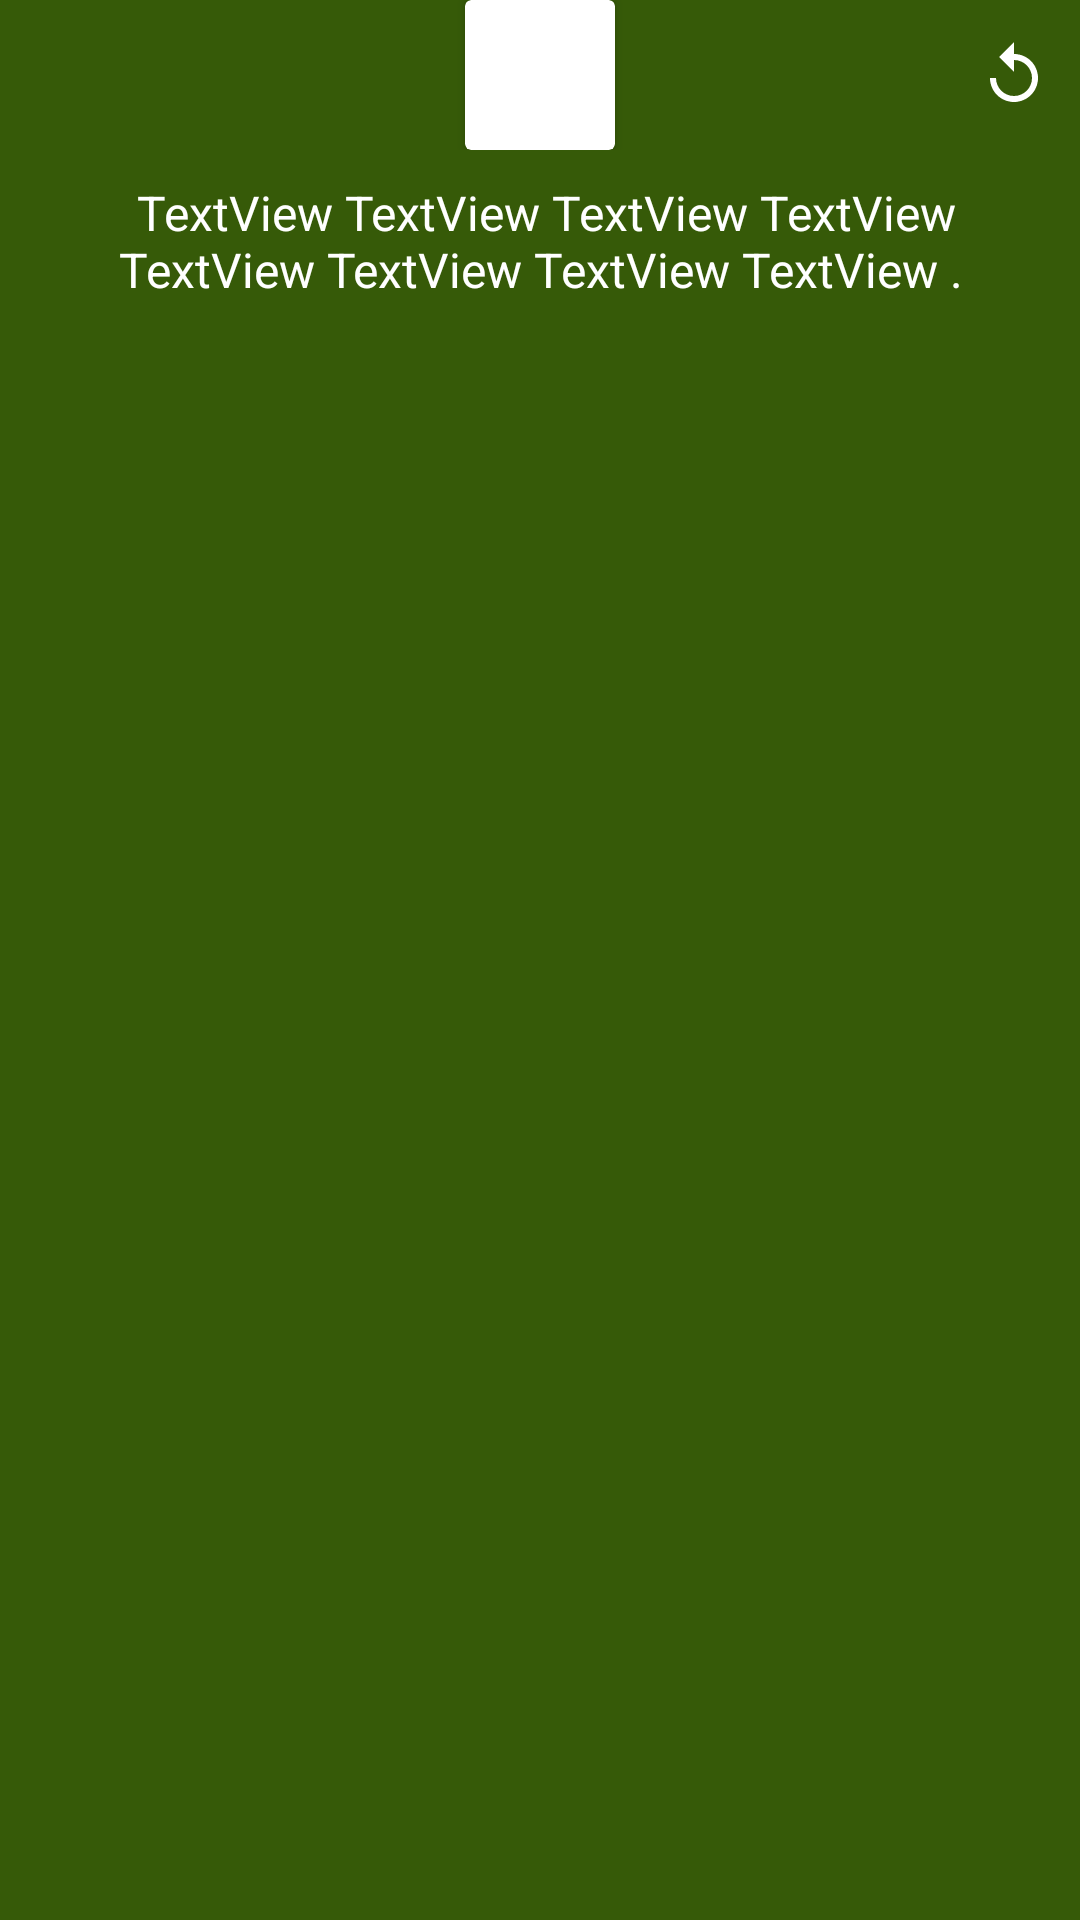

Point at icon controls on the screen. Image size 1080×1920, points as [x,y].
replay: [1014,72]
